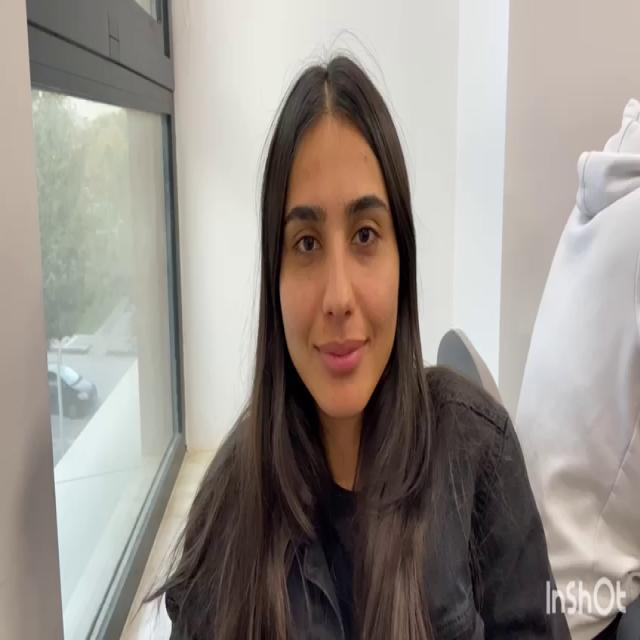happy: (276, 110, 400, 392)
